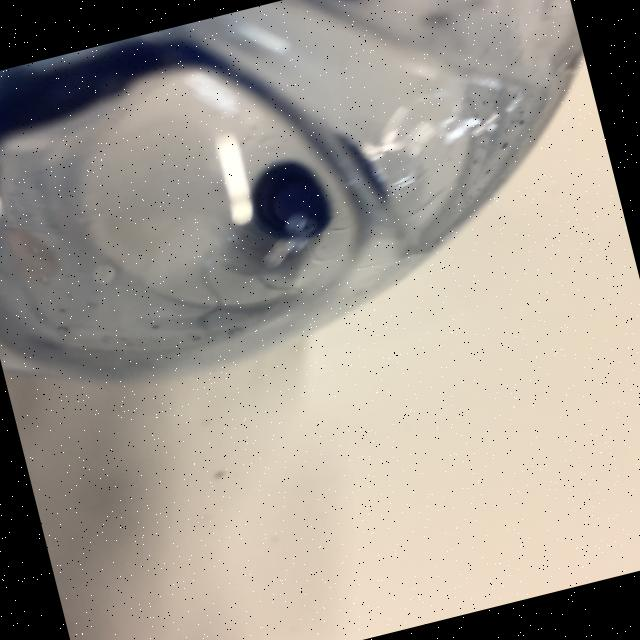plastic: (0, 0, 634, 418)
